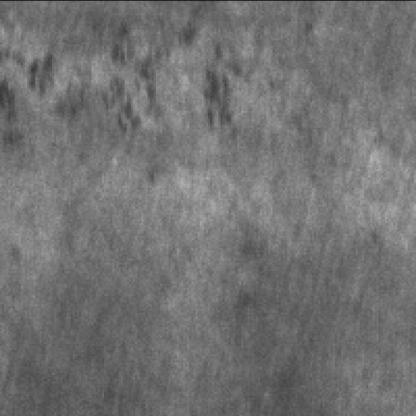rolled-in_scale: (2, 29, 250, 150)
